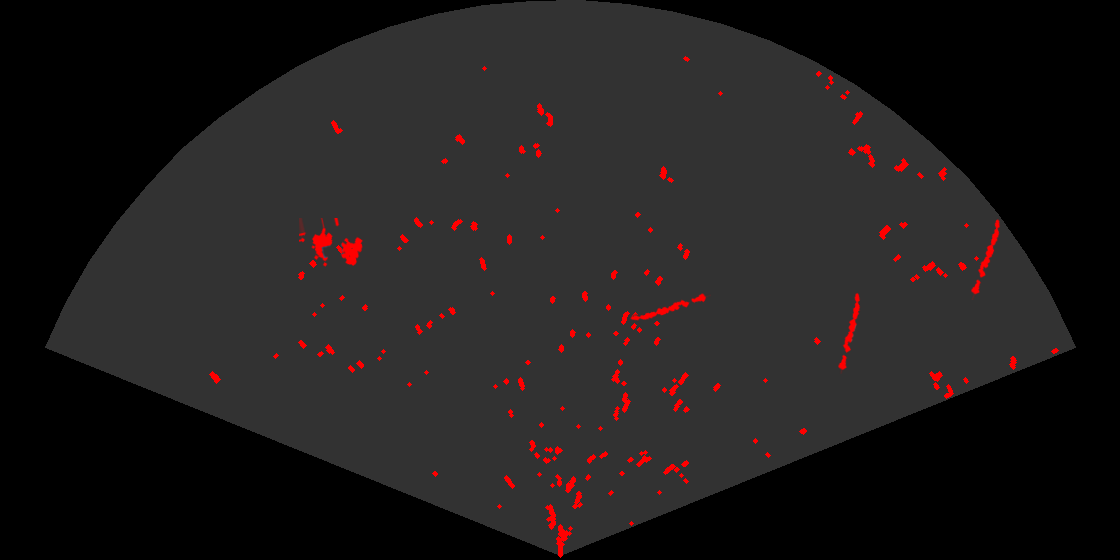cage: (299, 218, 365, 268)
chain: (969, 217, 1002, 300), (628, 292, 711, 322), (837, 291, 862, 374)
